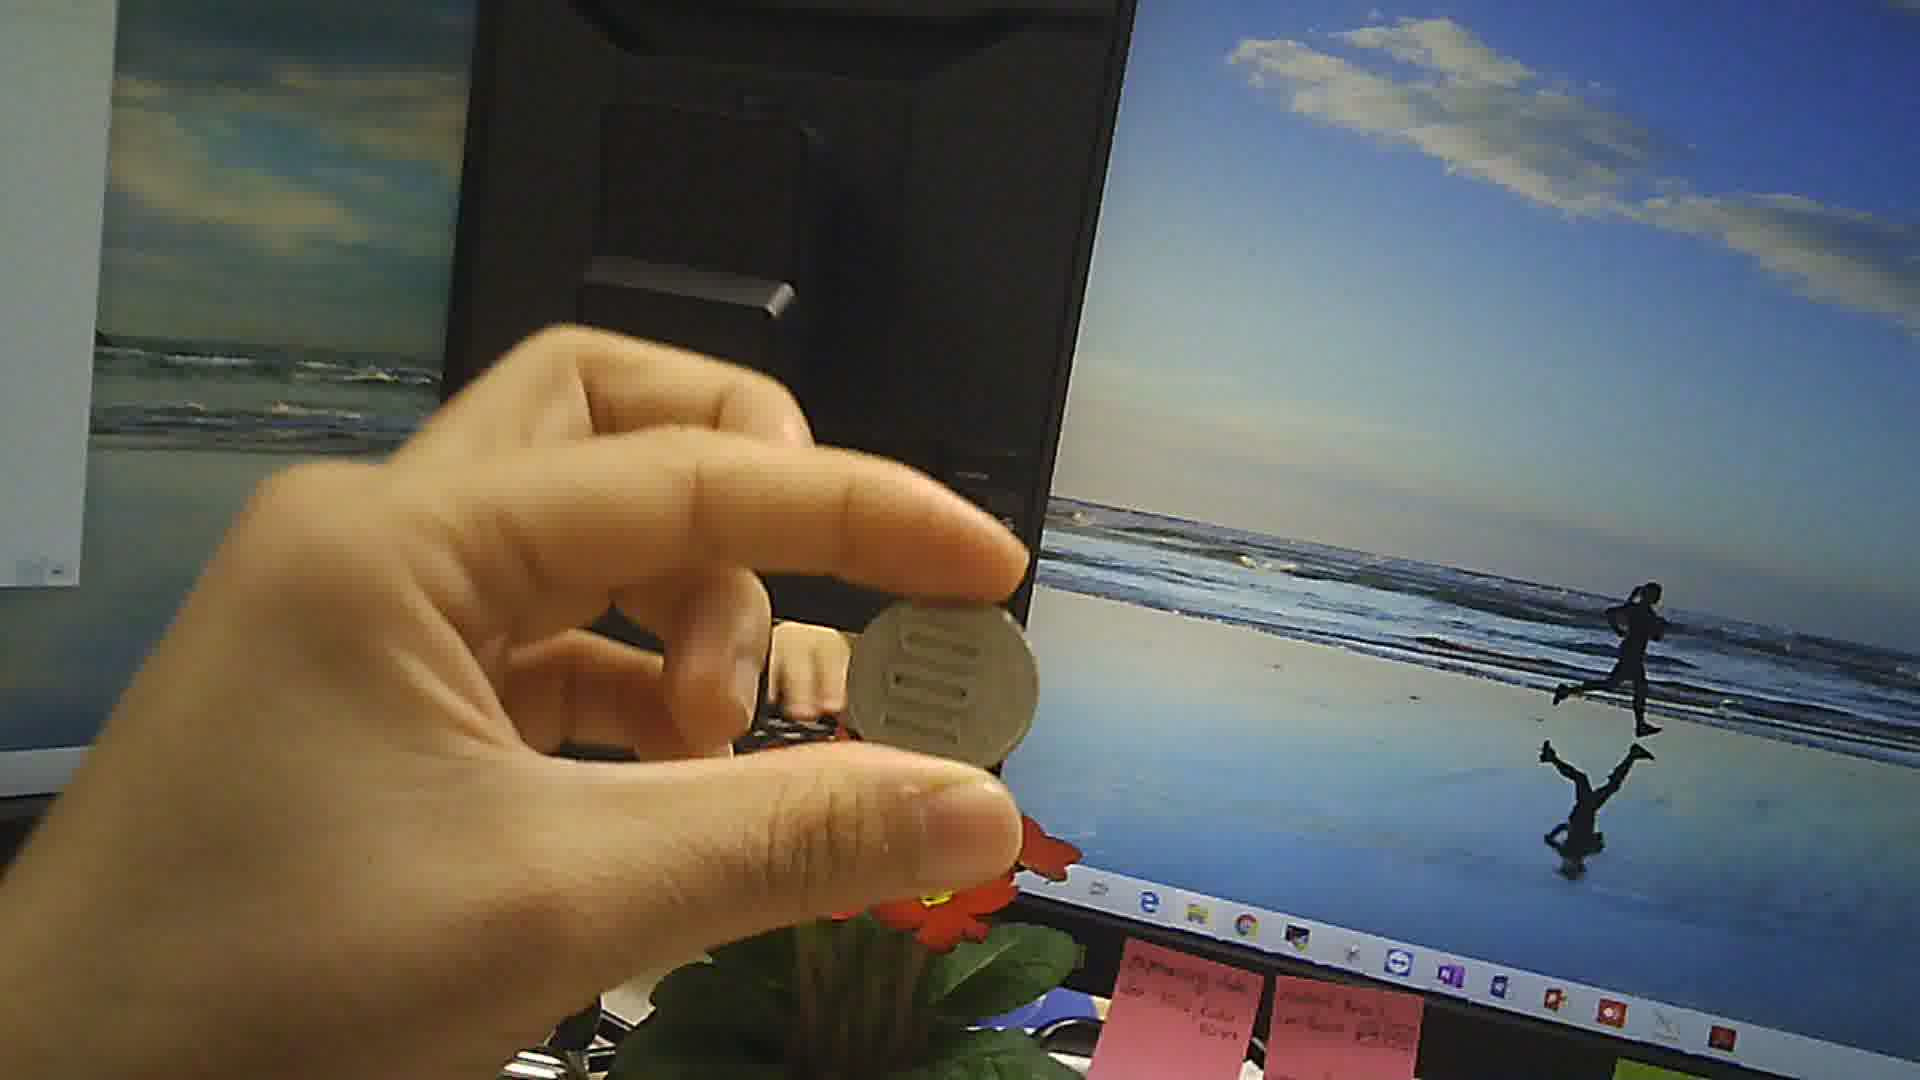100 Yen: (847, 578, 1036, 770)
